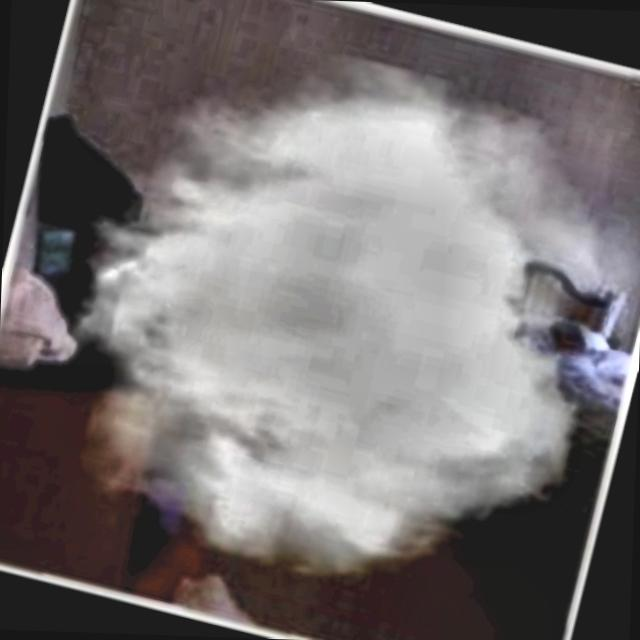smoke: (99, 76, 594, 604)
